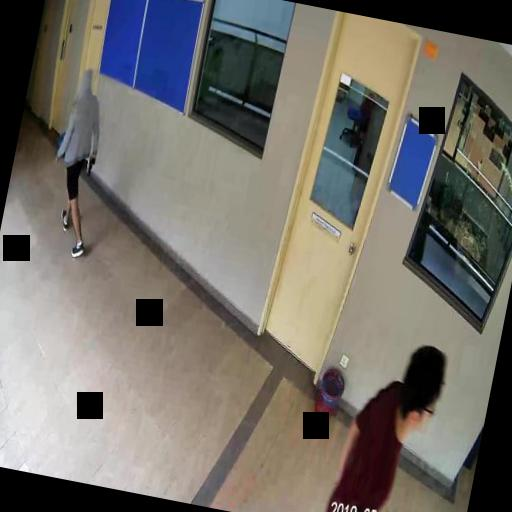Handgun: (86, 153, 96, 176)
